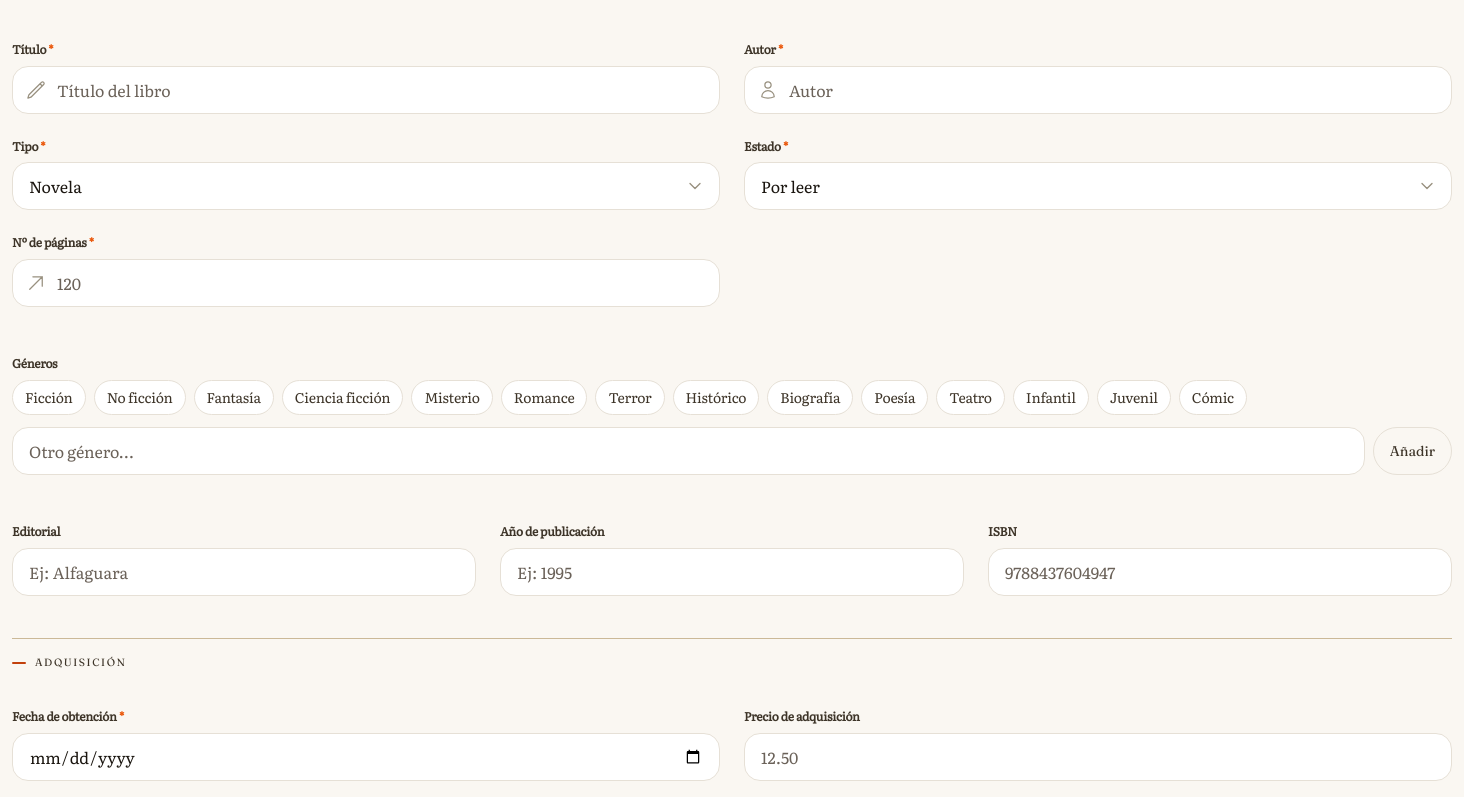
Test case: BookForm › muestra los campos de estado completado al seleccionarlo
Expected: the text "Valoración" is not shown
Select "Completado" in the dropdown showing "Por leer" below "Estado": coordinates (1098, 186) left=744, top=162, right=1452, bottom=210
(page scrolled)
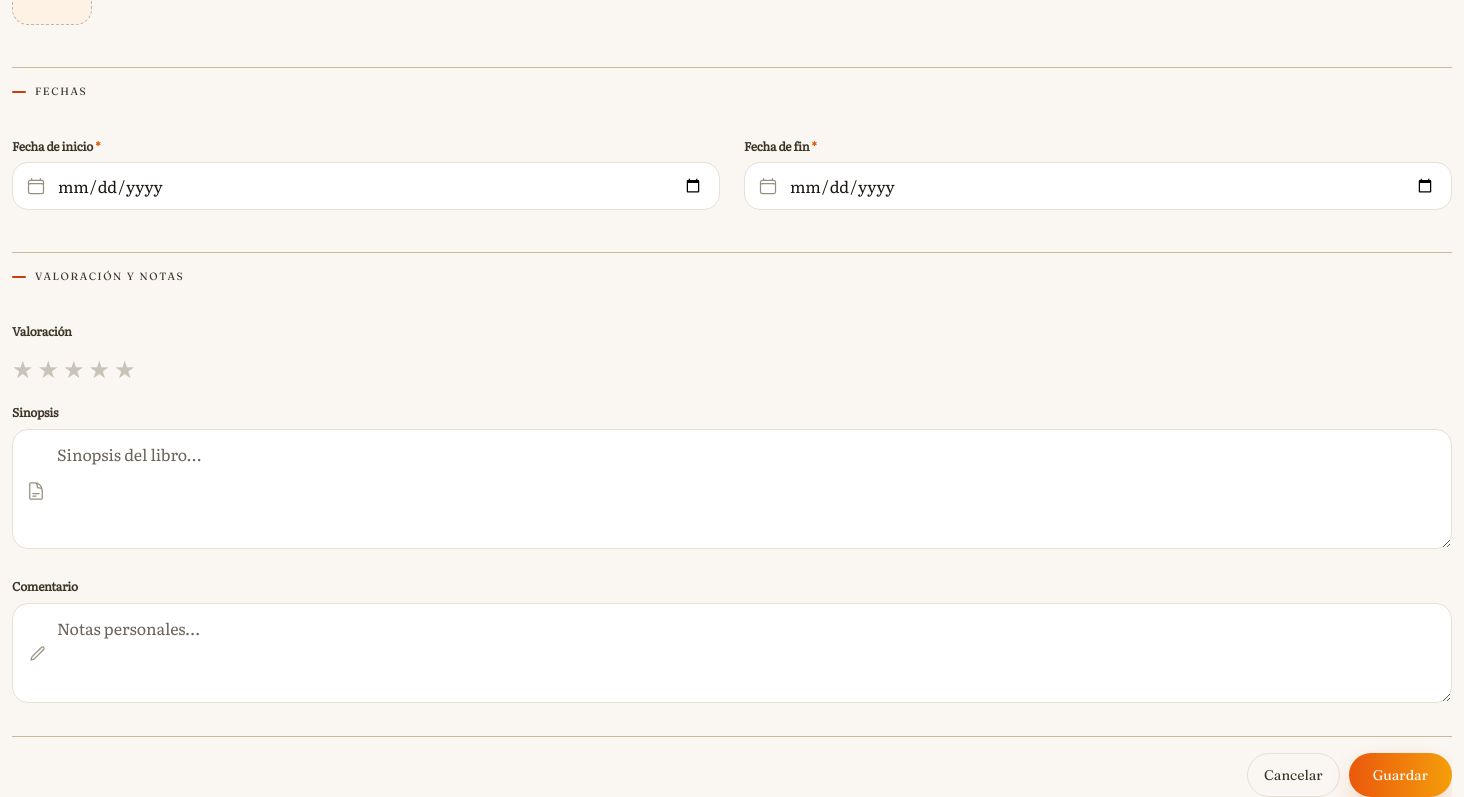
Expected: the text "Fecha de inicio" is shown, left=12, top=137, right=93, bottom=155
Expected: the text "Fecha de fin" is shown, left=744, top=137, right=809, bottom=155
Expected: the text "Valoración" is shown, left=12, top=322, right=72, bottom=340
